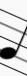note: (0, 5, 27, 76)
